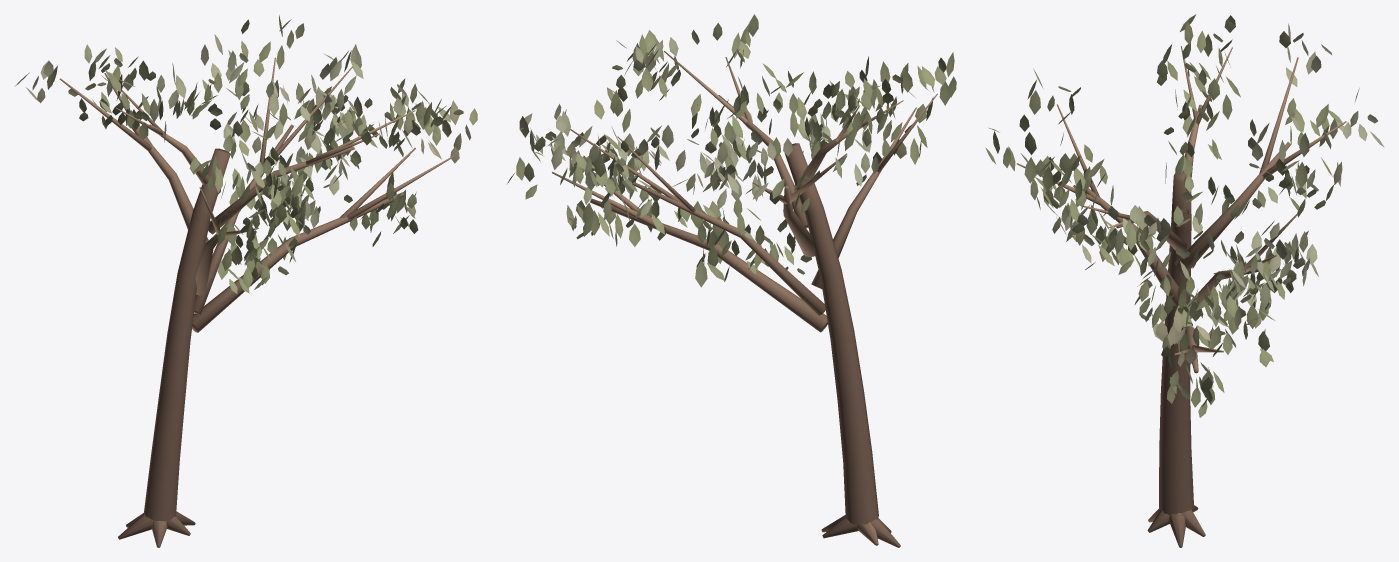
Rendered from tree_3d_04.glb.
3 renders of one model, left to right at view 1: azimuth 30°, elevation 25°; view 2: azimuth 150°, elevation 25°; view 3: azimuth 270°, elevation 25°, orthographic. The views are drawn at different scales.
Visible parts, largest first — view 1: tree_3d_04_foliage, tree_3d_04_wood; view 2: tree_3d_04_foliage, tree_3d_04_wood; view 3: tree_3d_04_foliage, tree_3d_04_wood.
Boxes of the visible parts, <box> form: tree_3d_04_foliage: <box>14,15,477,293</box>; tree_3d_04_wood: <box>59,57,453,547</box>; tree_3d_04_foliage: <box>507,14,956,287</box>; tree_3d_04_wood: <box>552,51,937,547</box>; tree_3d_04_foliage: <box>985,14,1384,417</box>; tree_3d_04_wood: <box>1017,46,1346,547</box>.
Bounding box in the file's own units: 10.58 × 12.32 × 8.88.
